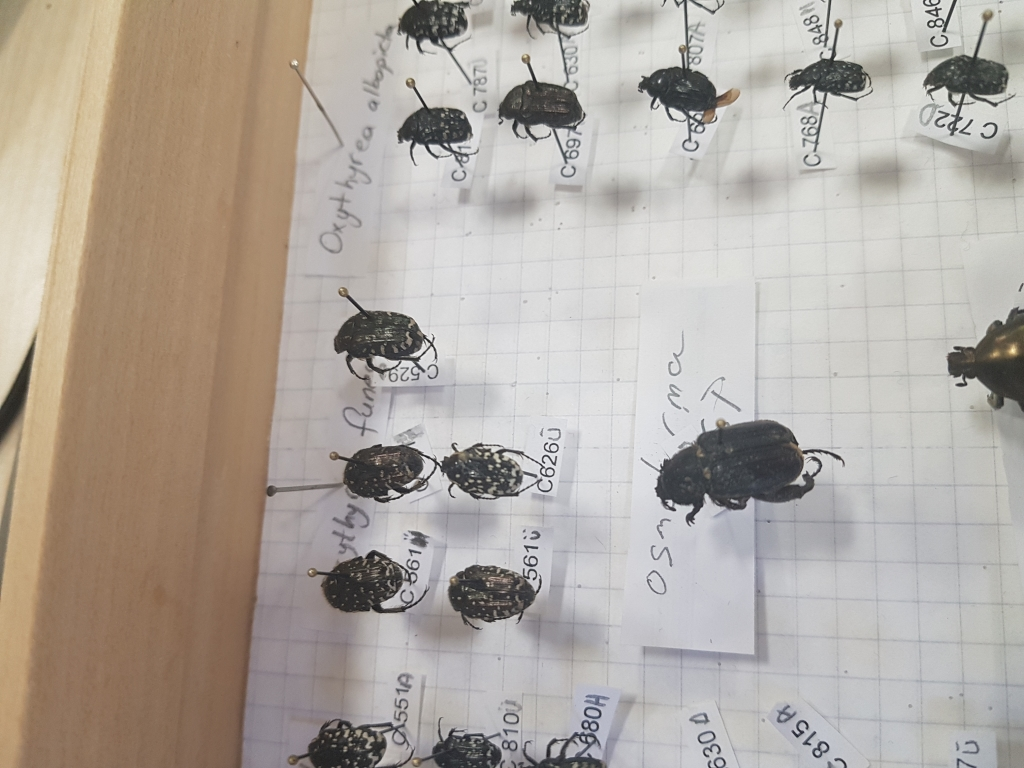Oxythyrea_funesta: (438, 430, 538, 503)
